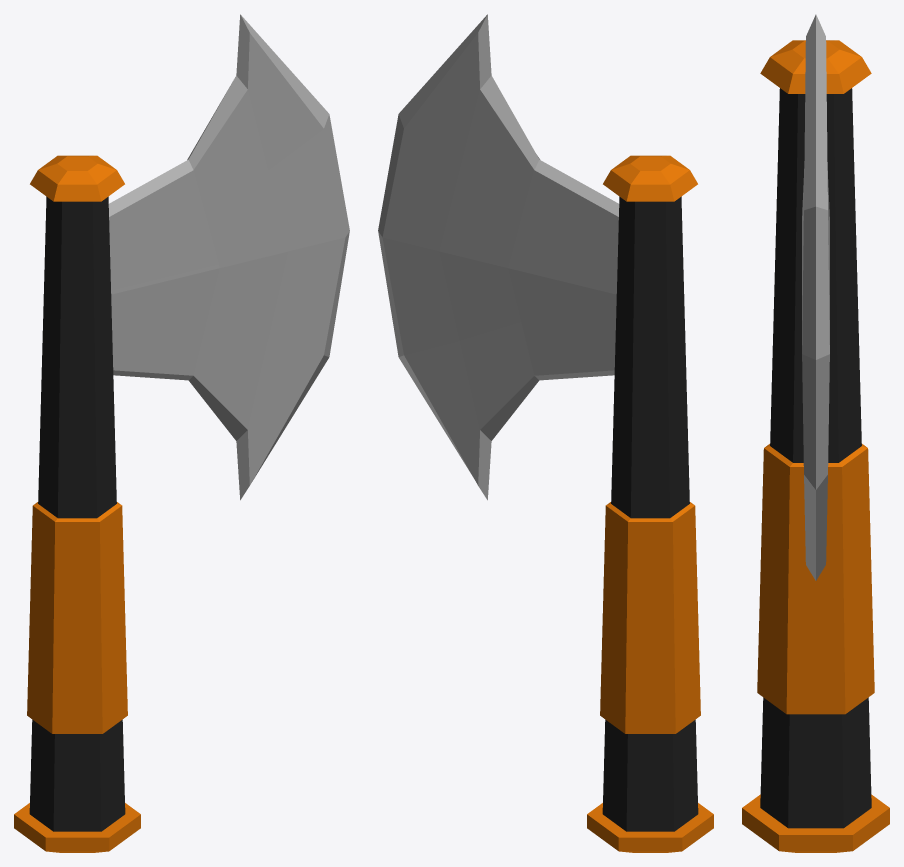
The model's file is Weapon_FM_War_Axe.glb.
3 renders of one model, left to right at view 1: azimuth 30°, elevation 25°; view 2: azimuth 150°, elevation 25°; view 3: azimuth 270°, elevation 25°, orthographic. The views are drawn at different scales.
Parts seen in each view (by area): view 1: Weapon_War_Axe; view 2: Weapon_War_Axe; view 3: Weapon_War_Axe.
Boxes of the visible parts, left/top/right/bottom form: Weapon_War_Axe: left=14, top=14, right=349, bottom=852; Weapon_War_Axe: left=378, top=14, right=713, bottom=852; Weapon_War_Axe: left=742, top=14, right=889, bottom=852.
Bounding box in the file's own units: 0.383 × 0.9 × 0.1315.
